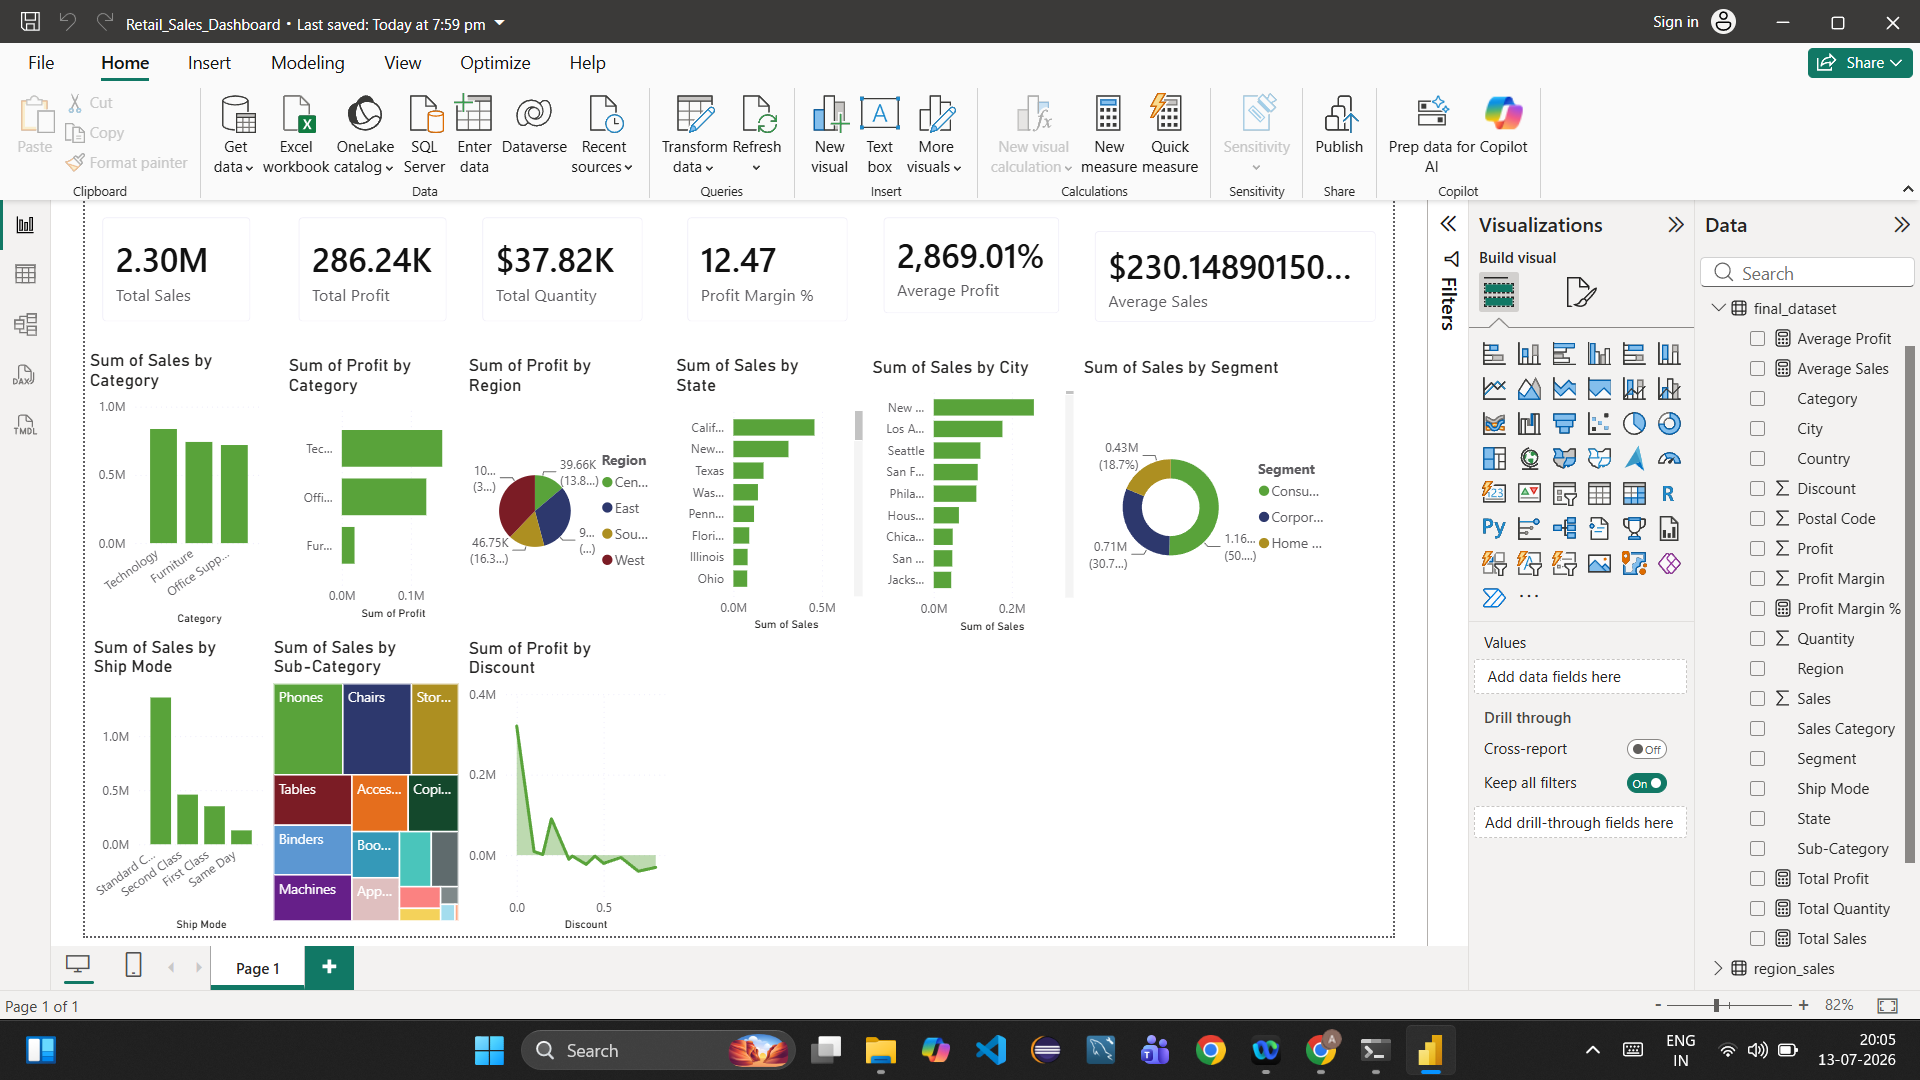

The page's visual inventory and layout, read from the dashboard file:
{"tool":"powerbi","page":{"name":"Page 1","canvas":[1280,720],"ordinal":0},"visuals":[{"type":"cardVisual","fields":{"Data":["final_dataset.Total Sales"]},"box":[0,0,179.8,137],"z":5001},{"type":"cardVisual","fields":{"Data":["final_dataset.Total Quantity"]},"box":[371.7,0,192,137],"z":5002},{"type":"cardVisual","fields":{"Data":["final_dataset.Total Profit"]},"box":[192,0,179.8,137],"z":5003},{"type":"cardVisual","fields":{"Data":["final_dataset.Profit Margin %"]},"box":[572.3,0,192,137],"z":5004},{"type":"cardVisual","fields":{"Data":["final_dataset.Average Sales"]},"box":[970.9,13.5,309.4,123.5],"z":5005},{"type":"cardVisual","fields":{"Data":["final_dataset.Average Profit"]},"box":[764.3,0,206.7,128.4],"z":5006},{"type":"clusteredColumnChart","fields":{"Category":["final_dataset.Category"],"Y":["Sum(final_dataset.Sales)"]},"box":[0,146.7,179.8,273.9],"z":5007},{"type":"clusteredBarChart","fields":{"Category":["final_dataset.Category"],"Y":["Sum(final_dataset.Profit)"]},"box":[194.4,151.6,177.3,264.1],"z":5008},{"type":"pieChart","fields":{"Y":["Sum(final_dataset.Profit)"],"Series":["final_dataset.Region"]},"box":[370.5,151.6,195.7,264.1],"z":5009},{"type":"barChart","fields":{"Category":["final_dataset.State"],"Y":["Sum(final_dataset.Sales)"]},"box":[573.5,151.6,192,275.1],"z":5010},{"type":"barChart","fields":{"Category":["final_dataset.City"],"Y":["Sum(final_dataset.Sales)"]},"box":[765.5,152.9,206.7,275.1],"z":5011},{"type":"donutChart","fields":{"Category":["final_dataset.Segment"],"Y":["Sum(final_dataset.Sales)"]},"box":[972.2,152.9,254.3,275.1],"z":5012},{"type":"columnChart","fields":{"Category":["final_dataset.Ship Mode"],"Y":["Sum(final_dataset.Sales)"]},"box":[3.7,426.8,176.1,293.5],"z":5013},{"type":"treemap","fields":{"Group":["final_dataset.Sub-Category"],"Values":["Sum(final_dataset.Sales)"]},"box":[179.8,426.8,190.8,283.7],"z":5014},{"type":"stackedAreaChart","fields":{"Category":["final_dataset.Discount"],"Y":["Sum(final_dataset.Profit)"]},"box":[370.5,428,203,292.3],"z":5015}]}

Visuals, with their boxes on the page's 1280x720 design canvas (x1, y1, x2, y2). These are canvas units, not pixel positions in the 1920x1080 screenshot, which may show the page scaled, cropped or inside an application window:
cardVisual - final_dataset.Total Sales: <bbox>0, 0, 180, 137</bbox>
cardVisual - final_dataset.Total Quantity: <bbox>372, 0, 564, 137</bbox>
cardVisual - final_dataset.Total Profit: <bbox>192, 0, 372, 137</bbox>
cardVisual - final_dataset.Profit Margin %: <bbox>572, 0, 764, 137</bbox>
cardVisual - final_dataset.Average Sales: <bbox>971, 14, 1280, 137</bbox>
cardVisual - final_dataset.Average Profit: <bbox>764, 0, 971, 128</bbox>
clusteredColumnChart - final_dataset.Category x Sum(final_dataset.Sales): <bbox>0, 147, 180, 421</bbox>
clusteredBarChart - final_dataset.Category x Sum(final_dataset.Profit): <bbox>194, 152, 372, 416</bbox>
pieChart - Sum(final_dataset.Profit) x final_dataset.Region: <bbox>370, 152, 566, 416</bbox>
barChart - final_dataset.State x Sum(final_dataset.Sales): <bbox>574, 152, 766, 427</bbox>
barChart - final_dataset.City x Sum(final_dataset.Sales): <bbox>766, 153, 972, 428</bbox>
donutChart - final_dataset.Segment x Sum(final_dataset.Sales): <bbox>972, 153, 1226, 428</bbox>
columnChart - final_dataset.Ship Mode x Sum(final_dataset.Sales): <bbox>4, 427, 180, 720</bbox>
treemap - final_dataset.Sub-Category x Sum(final_dataset.Sales): <bbox>180, 427, 371, 710</bbox>
stackedAreaChart - final_dataset.Discount x Sum(final_dataset.Profit): <bbox>370, 428, 574, 720</bbox>
